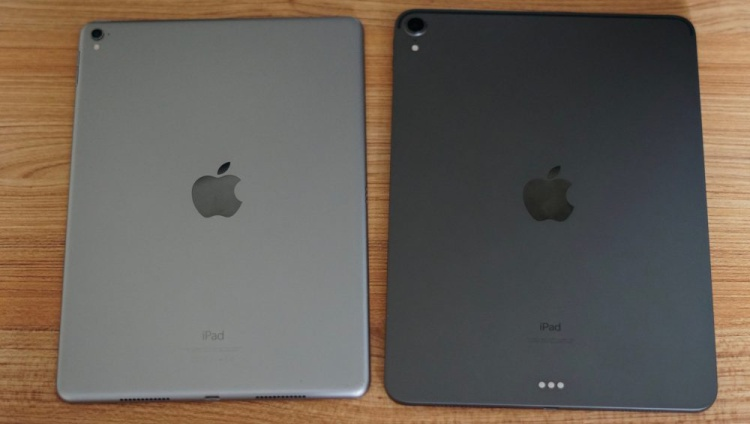apple: (510, 147, 588, 230), (188, 147, 270, 217)
